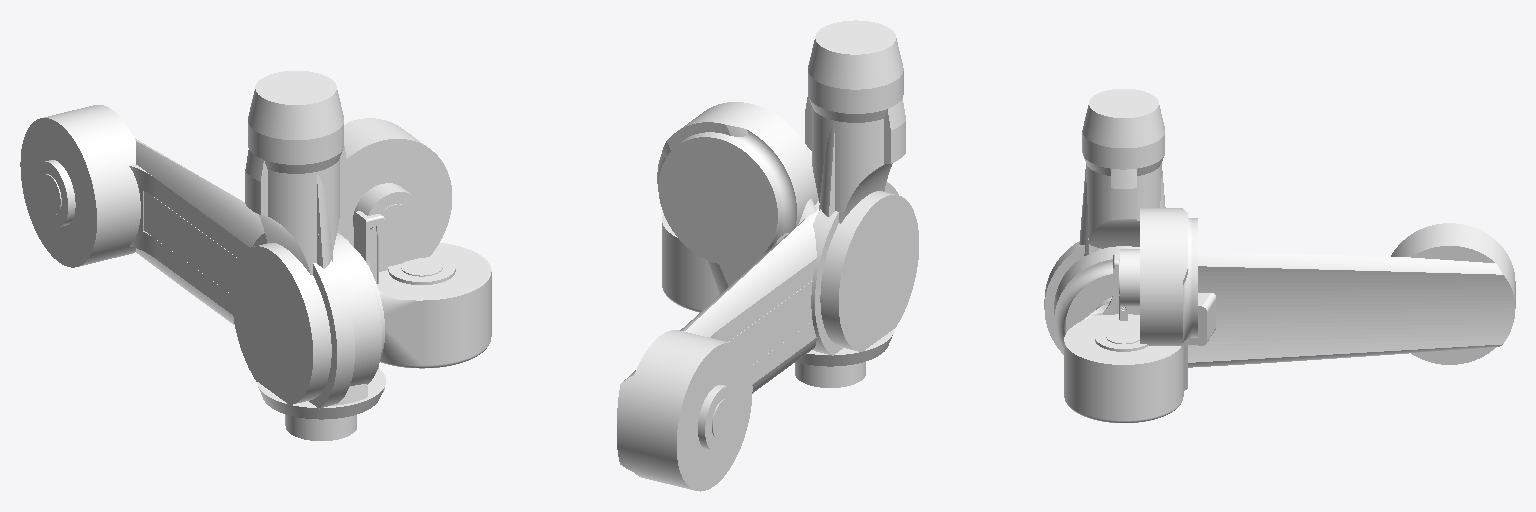
The robot description file, URDF, robot "UF_ROBOT":
<?xml version="1.0" ?>
<!-- =================================================================================== -->
<!-- |    This document was autogenerated by xacro from /home/ubuntu/dimos/data/xarm_description/urdf/xarm_device.urdf.xacro | -->
<!-- |    EDITING THIS FILE BY HAND IS NOT RECOMMENDED                                 | -->
<!-- =================================================================================== -->
<robot name="UF_ROBOT">
  <!-- Insert at the beginning of xarm_device_macro.xacro -->
  <material name="Black">
    <color rgba="0.0 0.0 0.0 1.0"/>
  </material>
  <material name="Red">
    <color rgba="0.8 0.0 0.0 1.0"/>
  </material>
  <material name="White">
    <color rgba="1.0 1.0 1.0 1.0"/>
  </material>
  <material name="Silver">
    <color rgba="0.753 0.753 0.753 1.0"/>
  </material>
  <link name="world"/>
  <joint name="world_joint" type="fixed">
    <parent link="world"/>
    <child link="link_base"/>
    <origin rpy="0 0 0" xyz="0 0 0"/>
  </joint>
  <ros2_control name="uf_robot_hardware/UFRobotSystemHardware" type="system">
    <hardware>
      <plugin>uf_robot_hardware/UFRobotSystemHardware</plugin>
      <param name="hw_ns">xarm</param>
      <param name="velocity_control">False</param>
      <param name="prefix">P</param>
      <param name="robot_ip">R</param>
      <param name="report_type">normal</param>
      <param name="dof">7</param>
      <param name="baud_checkset">True</param>
      <param name="default_gripper_baud">2000000</param>
      <param name="robot_type">xarm</param>
      <param name="add_gripper">False</param>
      <param name="add_bio_gripper">False</param>
    </hardware>
    <joint name="joint1">
      <command_interface name="position">
        <param name="min">-3.1101767270538954</param>
        <param name="max">3.1101767270538954</param>
      </command_interface>
      <command_interface name="velocity">
        <param name="min">-3.14</param>
        <param name="max">3.14</param>
      </command_interface>
      <state_interface name="position"/>
      <state_interface name="velocity"/>
      <!-- <state_interface name="effort"/> -->
    </joint>
    <joint name="joint2">
      <command_interface name="position">
        <param name="min">-2.18</param>
        <param name="max">2.18</param>
      </command_interface>
      <command_interface name="velocity">
        <param name="min">-3.14</param>
        <param name="max">3.14</param>
      </command_interface>
      <state_interface name="position"/>
      <state_interface name="velocity"/>
      <!-- <state_interface name="effort"/> -->
    </joint>
    <joint name="joint3">
      <command_interface name="position">
        <param name="min">-3.1101767270538954</param>
        <param name="max">3.1101767270538954</param>
      </command_interface>
      <command_interface name="velocity">
        <param name="min">-3.14</param>
        <param name="max">3.14</param>
      </command_interface>
      <state_interface name="position"/>
      <state_interface name="velocity"/>
      <!-- <state_interface name="effort"/> -->
    </joint>
    <joint name="joint4">
      <command_interface name="position">
        <param name="min">-0.11</param>
        <param name="max">3.1101767270538954</param>
      </command_interface>
      <command_interface name="velocity">
        <param name="min">-3.14</param>
        <param name="max">3.14</param>
      </command_interface>
      <state_interface name="position"/>
      <state_interface name="velocity"/>
      <!-- <state_interface name="effort"/> -->
    </joint>
    <joint name="joint5">
      <command_interface name="position">
        <param name="min">-3.1101767270538954</param>
        <param name="max">3.1101767270538954</param>
      </command_interface>
      <command_interface name="velocity">
        <param name="min">-3.14</param>
        <param name="max">3.14</param>
      </command_interface>
      <state_interface name="position"/>
      <state_interface name="velocity"/>
      <!-- <state_interface name="effort"/> -->
    </joint>
    <joint name="joint6">
      <command_interface name="position">
        <param name="min">-1.75</param>
        <param name="max">3.1101767270538954</param>
      </command_interface>
      <command_interface name="velocity">
        <param name="min">-3.14</param>
        <param name="max">3.14</param>
      </command_interface>
      <state_interface name="position"/>
      <state_interface name="velocity"/>
      <!-- <state_interface name="effort"/> -->
    </joint>
    <joint name="joint7">
      <command_interface name="position">
        <param name="min">-3.1101767270538954</param>
        <param name="max">3.1101767270538954</param>
      </command_interface>
      <command_interface name="velocity">
        <param name="min">-3.14</param>
        <param name="max">3.14</param>
      </command_interface>
      <state_interface name="position"/>
      <state_interface name="velocity"/>
      <!-- <state_interface name="effort"/> -->
    </joint>
  </ros2_control>
  <link name="link_base">
    <inertial>
      <origin rpy="0 0 0" xyz="-0.021131 -0.0016302 0.056488"/>
      <mass value="0.88556"/>
      <inertia ixx="0.0030595" ixy="0.00012259" ixz="-0.00062705" iyy="0.0037783" iyz="0.00027023" izz="0.0020125"/>
    </inertial>
    <visual>
      <geometry>
        <mesh filename="package://xarm_description/meshes/xarm7/visual/link_base.stl"/>
      </geometry>
      <origin rpy="0 0 0" xyz="0 0 0"/>
      <material name="White"/>
    </visual>
    <collision>
      <geometry>
        <mesh filename="package://xarm_description/meshes/xarm7/visual/link_base.stl"/>
      </geometry>
      <origin rpy="0 0 0" xyz="0 0 0"/>
    </collision>
  </link>
  <link name="link1">
    <inertial>
      <origin rpy="0 0 0" xyz="-0.0002 0.02905 -0.01233"/>
      <mass value="2.382"/>
      <inertia ixx="0.0056905" ixy="-1.579e-05" ixz="5.125e-06" iyy="0.0049566" iyz="-0.000873378" izz="0.003316654"/>
    </inertial>
    <visual>
      <geometry>
        <mesh filename="package://xarm_description/meshes/xarm7/visual/link1.stl"/>
      </geometry>
      <origin rpy="0 0 0" xyz="0 0 0"/>
      <material name="White"/>
    </visual>
    <collision>
      <geometry>
        <mesh filename="package://xarm_description/meshes/xarm7/visual/link1.stl"/>
      </geometry>
      <origin rpy="0 0 0" xyz="0 0 0"/>
    </collision>
  </link>
  <joint name="joint1" type="revolute">
    <origin rpy="0 0 0" xyz="0 0 0.267"/>
    <parent link="link_base"/>
    <child link="link1"/>
    <axis xyz="0 0 1"/>
    <limit effort="50" lower="-3.1101767270538954" upper="3.1101767270538954" velocity="3.14"/>
    <dynamics damping="10" friction="1"/>
  </joint>
  <link name="link2">
    <inertial>
      <origin rpy="0 0 0" xyz="0.00022 -0.12856 0.01735"/>
      <mass value="1.869"/>
      <inertia ixx="0.0095989" ixy="1.541e-06" ixz="5.56e-06" iyy="0.00382472" iyz="-0.00317156" izz="0.007565669"/>
    </inertial>
    <visual>
      <geometry>
        <mesh filename="package://xarm_description/meshes/xarm7/visual/link2.stl"/>
      </geometry>
      <origin rpy="0 0 0" xyz="0 0 0"/>
      <material name="White"/>
    </visual>
    <collision>
      <geometry>
        <mesh filename="package://xarm_description/meshes/xarm7/visual/link2.stl"/>
      </geometry>
      <origin rpy="0 0 0" xyz="0 0 0"/>
    </collision>
  </link>
  <joint name="joint2" type="revolute">
    <origin rpy="-1.5708 0 0" xyz="0 0 0"/>
    <parent link="link1"/>
    <child link="link2"/>
    <axis xyz="0 0 1"/>
    <limit effort="50" lower="-2.18" upper="2.18" velocity="3.14"/>
    <dynamics damping="10" friction="1"/>
  </joint>
  <link name="link3">
    <inertial>
      <origin rpy="0 0 0" xyz="0.0466 -0.02463 -0.00768"/>
      <mass value="1.6383"/>
      <inertia ixx="0.00310955" ixy="0.00030837" ixz="-0.00058453" iyy="0.00264483" iyz="0.000338893" izz="0.0026624"/>
    </inertial>
    <visual>
      <geometry>
        <mesh filename="package://xarm_description/meshes/xarm7/visual/link3.stl"/>
      </geometry>
      <origin rpy="0 0 0" xyz="0 0 0"/>
      <material name="White"/>
    </visual>
    <collision>
      <geometry>
        <mesh filename="package://xarm_description/meshes/xarm7/visual/link3.stl"/>
      </geometry>
      <origin rpy="0 0 0" xyz="0 0 0"/>
    </collision>
  </link>
  <joint name="joint3" type="revolute">
    <origin rpy="1.5708 0 0" xyz="0 -0.293 0"/>
    <parent link="link2"/>
    <child link="link3"/>
    <axis xyz="0 0 1"/>
    <limit effort="30" lower="-3.1101767270538954" upper="3.1101767270538954" velocity="3.14"/>
    <dynamics damping="5" friction="1"/>
  </joint>
  <link name="link4">
    <inertial>
      <origin rpy="0 0 0" xyz="0.07047 -0.11575 0.012"/>
      <mass value="1.7269"/>
      <inertia ixx="0.005889" ixy="0.00137112" ixz="0.00088143" iyy="0.00359703" iyz="-0.001762155" izz="0.00543244"/>
    </inertial>
    <visual>
      <geometry>
        <mesh filename="package://xarm_description/meshes/xarm7/visual/link4.stl"/>
      </geometry>
      <origin rpy="0 0 0" xyz="0 0 0"/>
      <material name="White"/>
    </visual>
    <collision>
      <geometry>
        <mesh filename="package://xarm_description/meshes/xarm7/visual/link4.stl"/>
      </geometry>
      <origin rpy="0 0 0" xyz="0 0 0"/>
    </collision>
  </link>
  <joint name="joint4" type="revolute">
    <origin rpy="1.5708 0 0" xyz="0.0525 0 0"/>
    <parent link="link3"/>
    <child link="link4"/>
    <axis xyz="0 0 1"/>
    <limit effort="30" lower="-0.11" upper="3.1101767270538954" velocity="3.14"/>
    <dynamics damping="5" friction="1"/>
  </joint>
  <link name="link5">
    <inertial>
      <origin rpy="0 0 0" xyz="-0.00032 0.01604 -0.026"/>
      <mass value="1.3203"/>
      <inertia ixx="0.00534665" ixy="1.5117e-05" ixz="-3.69e-07" iyy="0.0049779" iyz="-0.00022132" izz="0.0013624"/>
    </inertial>
    <visual>
      <geometry>
        <mesh filename="package://xarm_description/meshes/xarm7/visual/link5.stl"/>
      </geometry>
      <origin rpy="0 0 0" xyz="0 0 0"/>
      <material name="White"/>
    </visual>
    <collision>
      <geometry>
        <mesh filename="package://xarm_description/meshes/xarm7/visual/link5.stl"/>
      </geometry>
      <origin rpy="0 0 0" xyz="0 0 0"/>
    </collision>
  </link>
  <joint name="joint5" type="revolute">
    <origin rpy="1.5708 0 0" xyz="0.0775 -0.3425 0"/>
    <parent link="link4"/>
    <child link="link5"/>
    <axis xyz="0 0 1"/>
    <limit effort="30" lower="-3.1101767270538954" upper="3.1101767270538954" velocity="3.14"/>
    <dynamics damping="5" friction="1"/>
  </joint>
  <link name="link6">
    <inertial>
      <origin rpy="0 0 0" xyz="0.06469 0.03278 0.02141"/>
      <mass value="1.325"/>
      <inertia ixx="0.0014745" ixy="-0.000488" ixz="0.0002953" iyy="0.0019037" iyz="0.00014749" izz="0.0023652"/>
    </inertial>
    <visual>
      <geometry>
        <mesh filename="package://xarm_description/meshes/xarm7/visual/link6.stl"/>
      </geometry>
      <origin rpy="0 0 0" xyz="0 0 0"/>
      <material name="White"/>
    </visual>
    <collision>
      <geometry>
        <mesh filename="package://xarm_description/meshes/xarm7/visual/link6.stl"/>
      </geometry>
      <origin rpy="0 0 0" xyz="0 0 0"/>
    </collision>
  </link>
  <joint name="joint6" type="revolute">
    <origin rpy="1.5708 0 0" xyz="0 0 0"/>
    <parent link="link5"/>
    <child link="link6"/>
    <axis xyz="0 0 1"/>
    <limit effort="20" lower="-1.75" upper="3.1101767270538954" velocity="3.14"/>
    <dynamics damping="2" friction="1"/>
  </joint>
  <link name="link7">
    <inertial>
      <origin rpy="0 0 0" xyz="0 -0.00677 -0.01098"/>
      <mass value="0.17"/>
      <inertia ixx="9.3e-05" ixy="-0.0" ixz="-0.0" iyy="5.87e-05" iyz="-3.6e-06" izz="0.000132"/>
    </inertial>
    <visual>
      <geometry>
        <mesh filename="package://xarm_description/meshes/xarm7/visual/link7.stl"/>
      </geometry>
      <origin rpy="0 0 0" xyz="0 0 0"/>
      <material name="Silver"/>
    </visual>
    <collision>
      <geometry>
        <mesh filename="package://xarm_description/meshes/end_tool/collision/end_tool.stl"/>
      </geometry>
      <origin rpy="0 0 0" xyz="0 0 0"/>
    </collision>
  </link>
  <joint name="joint7" type="revolute">
    <origin rpy="-1.5708 0 0" xyz="0.076 0.097 0"/>
    <parent link="link6"/>
    <child link="link7"/>
    <axis xyz="0 0 1"/>
    <limit effort="20" lower="-3.1101767270538954" upper="3.1101767270538954" velocity="3.14"/>
    <dynamics damping="2" friction="1"/>
  </joint>
  <!-- <link name="${prefix}link_eef" />
    <joint name="${prefix}joint_eef" type="fixed">
      <origin xyz="0 0 0" rpy="0 0 0" />
      <parent link="${prefix}link7" />
      <child link="${prefix}link_eef" />
    </joint> -->
  <transmission name="tran1">
    <type>transmission_interface/SimpleTransmission</type>
    <joint name="joint1">
      <hardwareInterface>hardware_interface/PositionJointInterface</hardwareInterface>
    </joint>
    <actuator name="motor1">
      <hardwareInterface>hardware_interface/PositionJointInterface</hardwareInterface>
      <mechanicalReduction>100</mechanicalReduction>
    </actuator>
  </transmission>
  <transmission name="tran2">
    <type>transmission_interface/SimpleTransmission</type>
    <joint name="joint2">
      <hardwareInterface>hardware_interface/PositionJointInterface</hardwareInterface>
    </joint>
    <actuator name="motor2">
      <hardwareInterface>hardware_interface/PositionJointInterface</hardwareInterface>
      <mechanicalReduction>100</mechanicalReduction>
    </actuator>
  </transmission>
  <transmission name="tran3">
    <type>transmission_interface/SimpleTransmission</type>
    <joint name="joint3">
      <hardwareInterface>hardware_interface/PositionJointInterface</hardwareInterface>
    </joint>
    <actuator name="motor3">
      <hardwareInterface>hardware_interface/PositionJointInterface</hardwareInterface>
      <mechanicalReduction>100</mechanicalReduction>
    </actuator>
  </transmission>
  <transmission name="tran4">
    <type>transmission_interface/SimpleTransmission</type>
    <joint name="joint4">
      <hardwareInterface>hardware_interface/PositionJointInterface</hardwareInterface>
    </joint>
    <actuator name="motor4">
      <hardwareInterface>hardware_interface/PositionJointInterface</hardwareInterface>
      <mechanicalReduction>100</mechanicalReduction>
    </actuator>
  </transmission>
  <transmission name="tran5">
    <type>transmission_interface/SimpleTransmission</type>
    <joint name="joint5">
      <hardwareInterface>hardware_interface/PositionJointInterface</hardwareInterface>
    </joint>
    <actuator name="motor5">
      <hardwareInterface>hardware_interface/PositionJointInterface</hardwareInterface>
      <mechanicalReduction>100</mechanicalReduction>
    </actuator>
  </transmission>
  <transmission name="tran6">
    <type>transmission_interface/SimpleTransmission</type>
    <joint name="joint6">
      <hardwareInterface>hardware_interface/PositionJointInterface</hardwareInterface>
    </joint>
    <actuator name="motor6">
      <hardwareInterface>hardware_interface/PositionJointInterface</hardwareInterface>
      <mechanicalReduction>100</mechanicalReduction>
    </actuator>
  </transmission>
  <transmission name="tran7">
    <type>transmission_interface/SimpleTransmission</type>
    <joint name="joint7">
      <hardwareInterface>hardware_interface/PositionJointInterface</hardwareInterface>
    </joint>
    <actuator name="motor7">
      <hardwareInterface>hardware_interface/PositionJointInterface</hardwareInterface>
      <mechanicalReduction>100</mechanicalReduction>
    </actuator>
  </transmission>
  <gazebo reference="link_base">
    <selfCollide>true</selfCollide>
  </gazebo>
  <gazebo reference="link1">
    <selfCollide>true</selfCollide>
  </gazebo>
  <gazebo reference="link2">
    <selfCollide>true</selfCollide>
  </gazebo>
  <gazebo reference="link3">
    <selfCollide>true</selfCollide>
  </gazebo>
  <gazebo reference="link4">
    <selfCollide>true</selfCollide>
  </gazebo>
  <gazebo reference="link5">
    <selfCollide>true</selfCollide>
  </gazebo>
  <gazebo reference="link6">
    <selfCollide>true</selfCollide>
  </gazebo>
  <gazebo reference="link7">
    <selfCollide>true</selfCollide>
  </gazebo>
  <link name="link_eef"/>
  <joint name="joint_eef" type="fixed">
    <origin rpy="0 0 0" xyz="0 0 0"/>
    <parent link="link7"/>
    <child link="link_eef"/>
  </joint>
  <!-- Insert at the end of xarm_device_macro.xacro -->
</robot>

--- Facts derived from the render (not from the file) ---
The picture shows the robot from 3 angles, left to right: view 1: azimuth 30°, elevation 25°; view 2: azimuth 150°, elevation 25°; view 3: azimuth 270°, elevation 25°; orthographic projection.
Robot: UF_ROBOT — 10 links, 9 joints (7 revolute, 2 fixed); root link world; default pose: all joints at 0.
Visible links, largest first — view 1: link2, link3, link1, link4, link5, link6; view 2: link2, link1, link3, link4, link5; view 3: link2, link3, link4, link1, link6.
Boxes of the visible links, box(x1,y1,x2,y2) form: link2: box(20, 105, 384, 404); link3: box(245, 71, 346, 274); link1: box(253, 118, 451, 408); link4: box(377, 243, 491, 368); link5: box(257, 369, 385, 440); link6: box(354, 211, 384, 392); link2: box(617, 191, 918, 491); link1: box(657, 102, 898, 355); link3: box(805, 20, 905, 223); link4: box(662, 213, 719, 312); link5: box(795, 329, 894, 387); link2: box(1054, 223, 1515, 367); link3: box(1079, 89, 1165, 255); link4: box(1064, 297, 1183, 422); link1: box(1044, 208, 1197, 390); link6: box(1102, 254, 1215, 345).
Bounding box of the posed robot: 237 × 466 × 322 m (x, y, z).
Meshes: 8 distinct files referenced, 6 mesh visuals loaded (6 binary STL); not drawn: 2 (reference not matched to a file when rendering).
